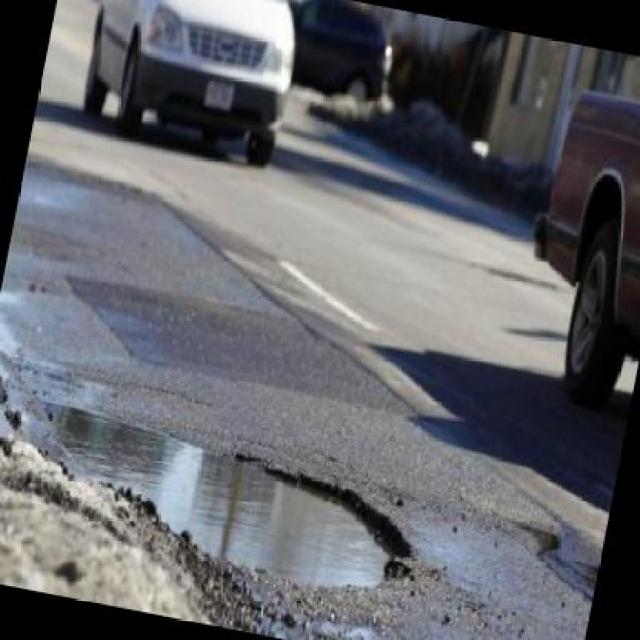pothole1: (14, 394, 431, 597), (513, 517, 562, 555)
